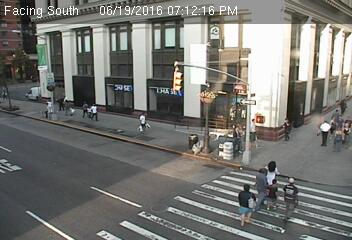neg: (182, 128, 208, 163), (238, 95, 261, 126), (209, 139, 232, 169), (308, 76, 330, 106), (33, 44, 51, 68), (225, 99, 242, 122), (28, 83, 43, 102), (14, 53, 29, 72), (7, 101, 17, 114), (48, 115, 56, 126)
pos: (270, 176, 310, 230), (226, 181, 262, 230), (262, 177, 288, 212), (130, 107, 155, 140), (277, 116, 296, 142), (76, 100, 91, 120), (338, 95, 351, 115), (54, 94, 67, 112)
